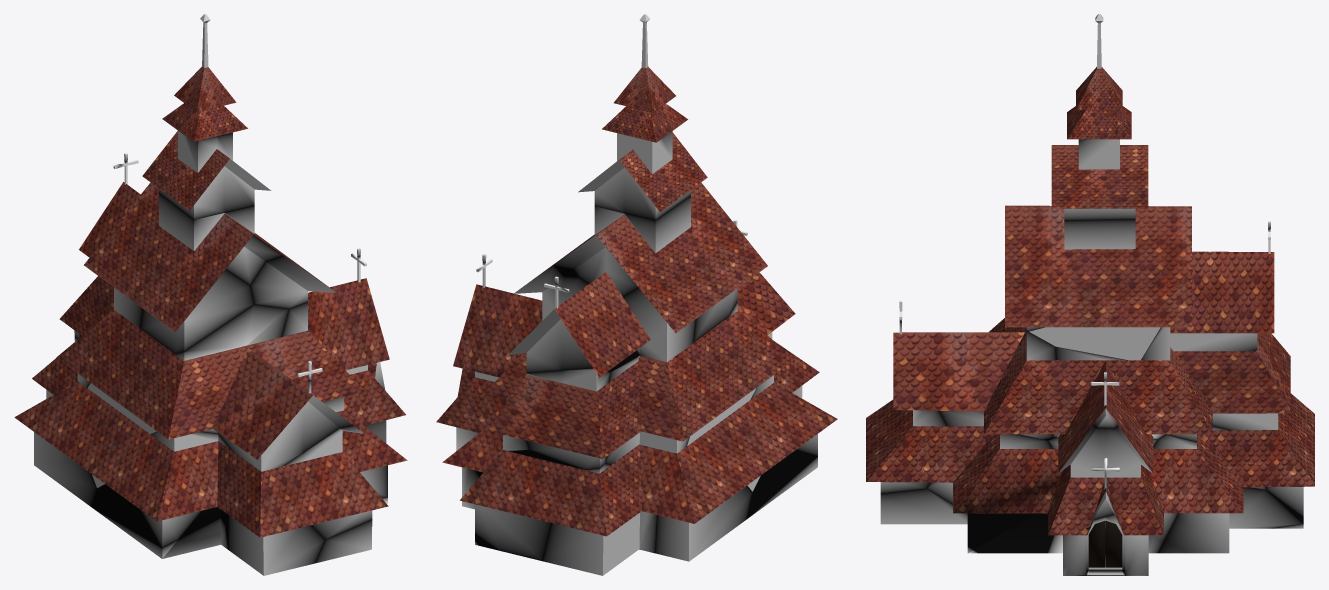
The model's file is Village_Stavkyrkje_1_D.fbx.
The picture shows the model from 3 angles, left to right: view 1: azimuth 30°, elevation 25°; view 2: azimuth 150°, elevation 25°; view 3: azimuth 270°, elevation 25°; orthographic projection.
Parts seen in each view (by area): view 1: Village_Stavkyrkje_1_fracturepart6, Village_Stavkyrkje_1_fracturepart23, Village_Stavkyrkje_1_fracturepart15, Village_Stavkyrkje_1_fracturepart29, Village_Stavkyrkje_1_fracturepart24, Village_Stavkyrkje_1_fracturepart33, Village_Stavkyrkje_1_fracturepart5, Village_Stavkyrkje_1_fracturepart25, Village_Stavkyrkje_1_fracturepart31, Village_Stavkyrkje_1_fracturepart14, Village_Stavkyrkje_1_fracturepart21, Village_Stavkyrkje_1_fracturepart20 (+15 smaller); view 2: Village_Stavkyrkje_1_fracturepart19, Village_Stavkyrkje_1_fracturepart29, Village_Stavkyrkje_1_fracturepart7, Village_Stavkyrkje_1_fracturepart2, Village_Stavkyrkje_1_fracturepart9, Village_Stavkyrkje_1_fracturepart31, Village_Stavkyrkje_1_fracturepart13, Village_Stavkyrkje_1_fracturepart33, Village_Stavkyrkje_1_fracturepart11, Village_Stavkyrkje_1_fracturepart25, Village_Stavkyrkje_1_fracturepart23, Village_Stavkyrkje_1_fracturepart14 (+13 smaller); view 3: Village_Stavkyrkje_1_fracturepart9, Village_Stavkyrkje_1_fracturepart32, Village_Stavkyrkje_1_fracturepart21, Village_Stavkyrkje_1_fracturepart29, Village_Stavkyrkje_1_fracturepart8, Village_Stavkyrkje_1_fracturepart1, Village_Stavkyrkje_1_fracturepart33, Village_Stavkyrkje_1_fracturepart30, Village_Stavkyrkje_1_fracturepart26, Village_Stavkyrkje_1_fracturepart22, Village_Stavkyrkje_1_fracturepart24, Village_Stavkyrkje_1_fracturepart34 (+13 smaller).
Part boxes in pixels (box(x1,y1,x2,y2)): Village_Stavkyrkje_1_fracturepart6: box(164, 385, 353, 481); Village_Stavkyrkje_1_fracturepart23: box(122, 256, 254, 355); Village_Stavkyrkje_1_fracturepart15: box(172, 304, 298, 397); Village_Stavkyrkje_1_fracturepart29: box(120, 182, 282, 284); Village_Stavkyrkje_1_fracturepart24: box(264, 425, 388, 539); Village_Stavkyrkje_1_fracturepart33: box(142, 116, 271, 219); Village_Stavkyrkje_1_fracturepart5: box(223, 480, 325, 575); Village_Stavkyrkje_1_fracturepart25: box(85, 321, 174, 435); Village_Stavkyrkje_1_fracturepart31: box(14, 383, 96, 506); Village_Stavkyrkje_1_fracturepart14: box(75, 370, 146, 487); Village_Stavkyrkje_1_fracturepart21: box(332, 299, 405, 425); Village_Stavkyrkje_1_fracturepart20: box(114, 427, 246, 485); Village_Stavkyrkje_1_fracturepart19: box(542, 464, 665, 575); Village_Stavkyrkje_1_fracturepart29: box(553, 182, 713, 303); Village_Stavkyrkje_1_fracturepart7: box(514, 365, 613, 472); Village_Stavkyrkje_1_fracturepart2: box(605, 355, 704, 471); Village_Stavkyrkje_1_fracturepart9: box(508, 265, 639, 372); Village_Stavkyrkje_1_fracturepart31: box(650, 448, 755, 561); Village_Stavkyrkje_1_fracturepart13: box(460, 450, 570, 560); Village_Stavkyrkje_1_fracturepart33: box(578, 128, 707, 220); Village_Stavkyrkje_1_fracturepart11: box(613, 253, 714, 363); Village_Stavkyrkje_1_fracturepart25: box(678, 321, 784, 416); Village_Stavkyrkje_1_fracturepart23: box(689, 198, 767, 344); Village_Stavkyrkje_1_fracturepart14: box(687, 403, 783, 491); Village_Stavkyrkje_1_fracturepart9: box(1140, 251, 1274, 389); Village_Stavkyrkje_1_fracturepart32: box(1005, 249, 1191, 331); Village_Stavkyrkje_1_fracturepart21: box(1047, 425, 1157, 535); Village_Stavkyrkje_1_fracturepart29: box(1005, 205, 1220, 268); Village_Stavkyrkje_1_fracturepart8: box(1049, 346, 1179, 439); Village_Stavkyrkje_1_fracturepart1: box(924, 404, 1052, 513); Village_Stavkyrkje_1_fracturepart33: box(1051, 110, 1148, 220); Village_Stavkyrkje_1_fracturepart30: box(1166, 352, 1290, 441); Village_Stavkyrkje_1_fracturepart26: box(1153, 426, 1272, 502); Village_Stavkyrkje_1_fracturepart22: box(938, 331, 1056, 440); Village_Stavkyrkje_1_fracturepart24: box(866, 393, 948, 493); Village_Stavkyrkje_1_fracturepart34: box(1048, 486, 1192, 575).
Size of the model in its own units: 1830 by 2780 by 2355.
Materials: 5 (1 with a texture image).
